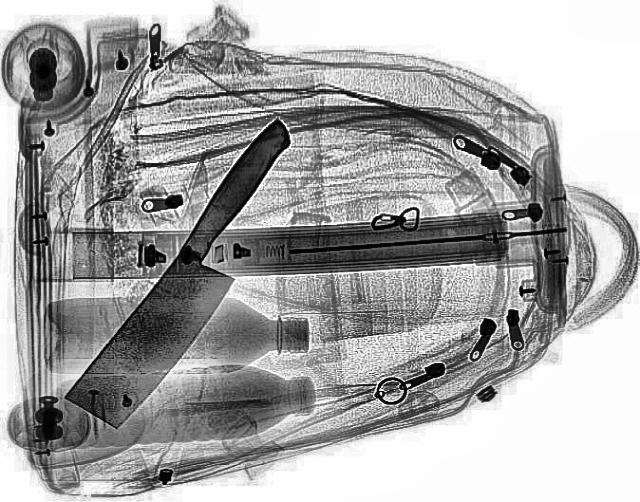Knife: (40, 117, 354, 431)
